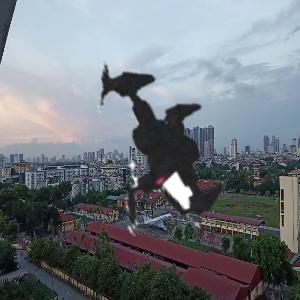drone: (14, 17, 281, 284)
